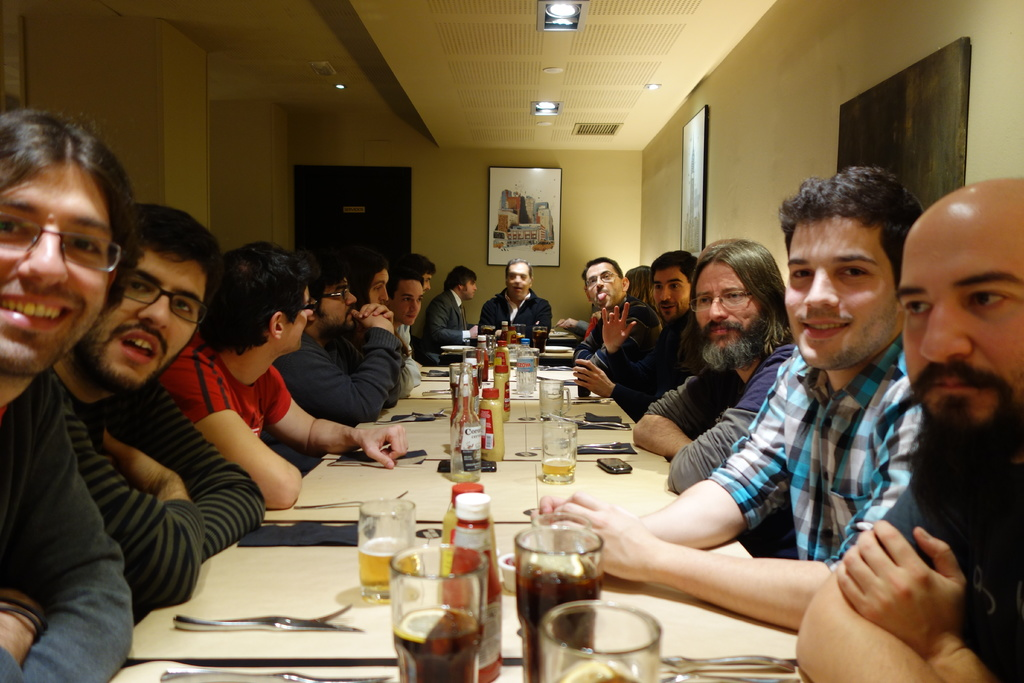Table: (199, 390, 814, 635), (403, 329, 619, 399)
